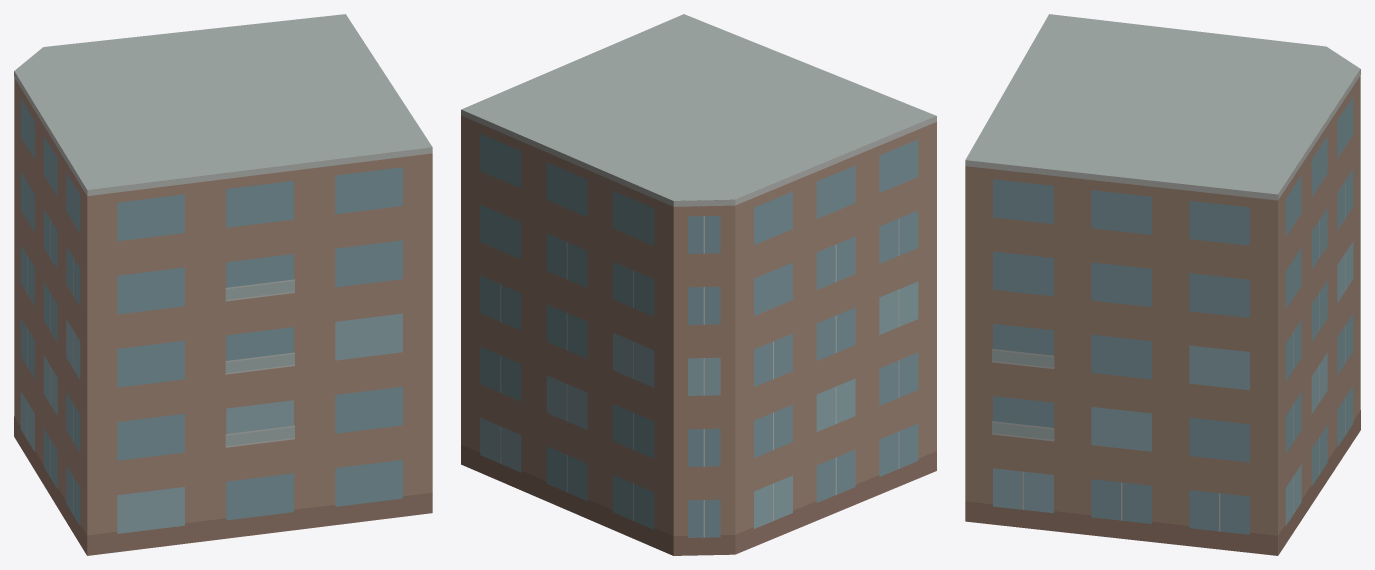
File: survey-upis-32726798.glb
3 views of the same model, side by side, from view 1: azimuth 30°, elevation 25°; view 2: azimuth 150°, elevation 25°; view 3: azimuth 270°, elevation 25° (orthographic). The views are drawn at different scales.
Visible parts, largest first — view 1: survey-upis-32726798.tmp; view 2: survey-upis-32726798.tmp; view 3: survey-upis-32726798.tmp.
Boxes of the visible parts, box(x1,y1,x2,y2) form: survey-upis-32726798.tmp: box(14, 14, 432, 555); survey-upis-32726798.tmp: box(461, 14, 936, 555); survey-upis-32726798.tmp: box(965, 14, 1360, 555).
Bounding box in the file's own units: 15.76 × 14.7 × 14.59.
